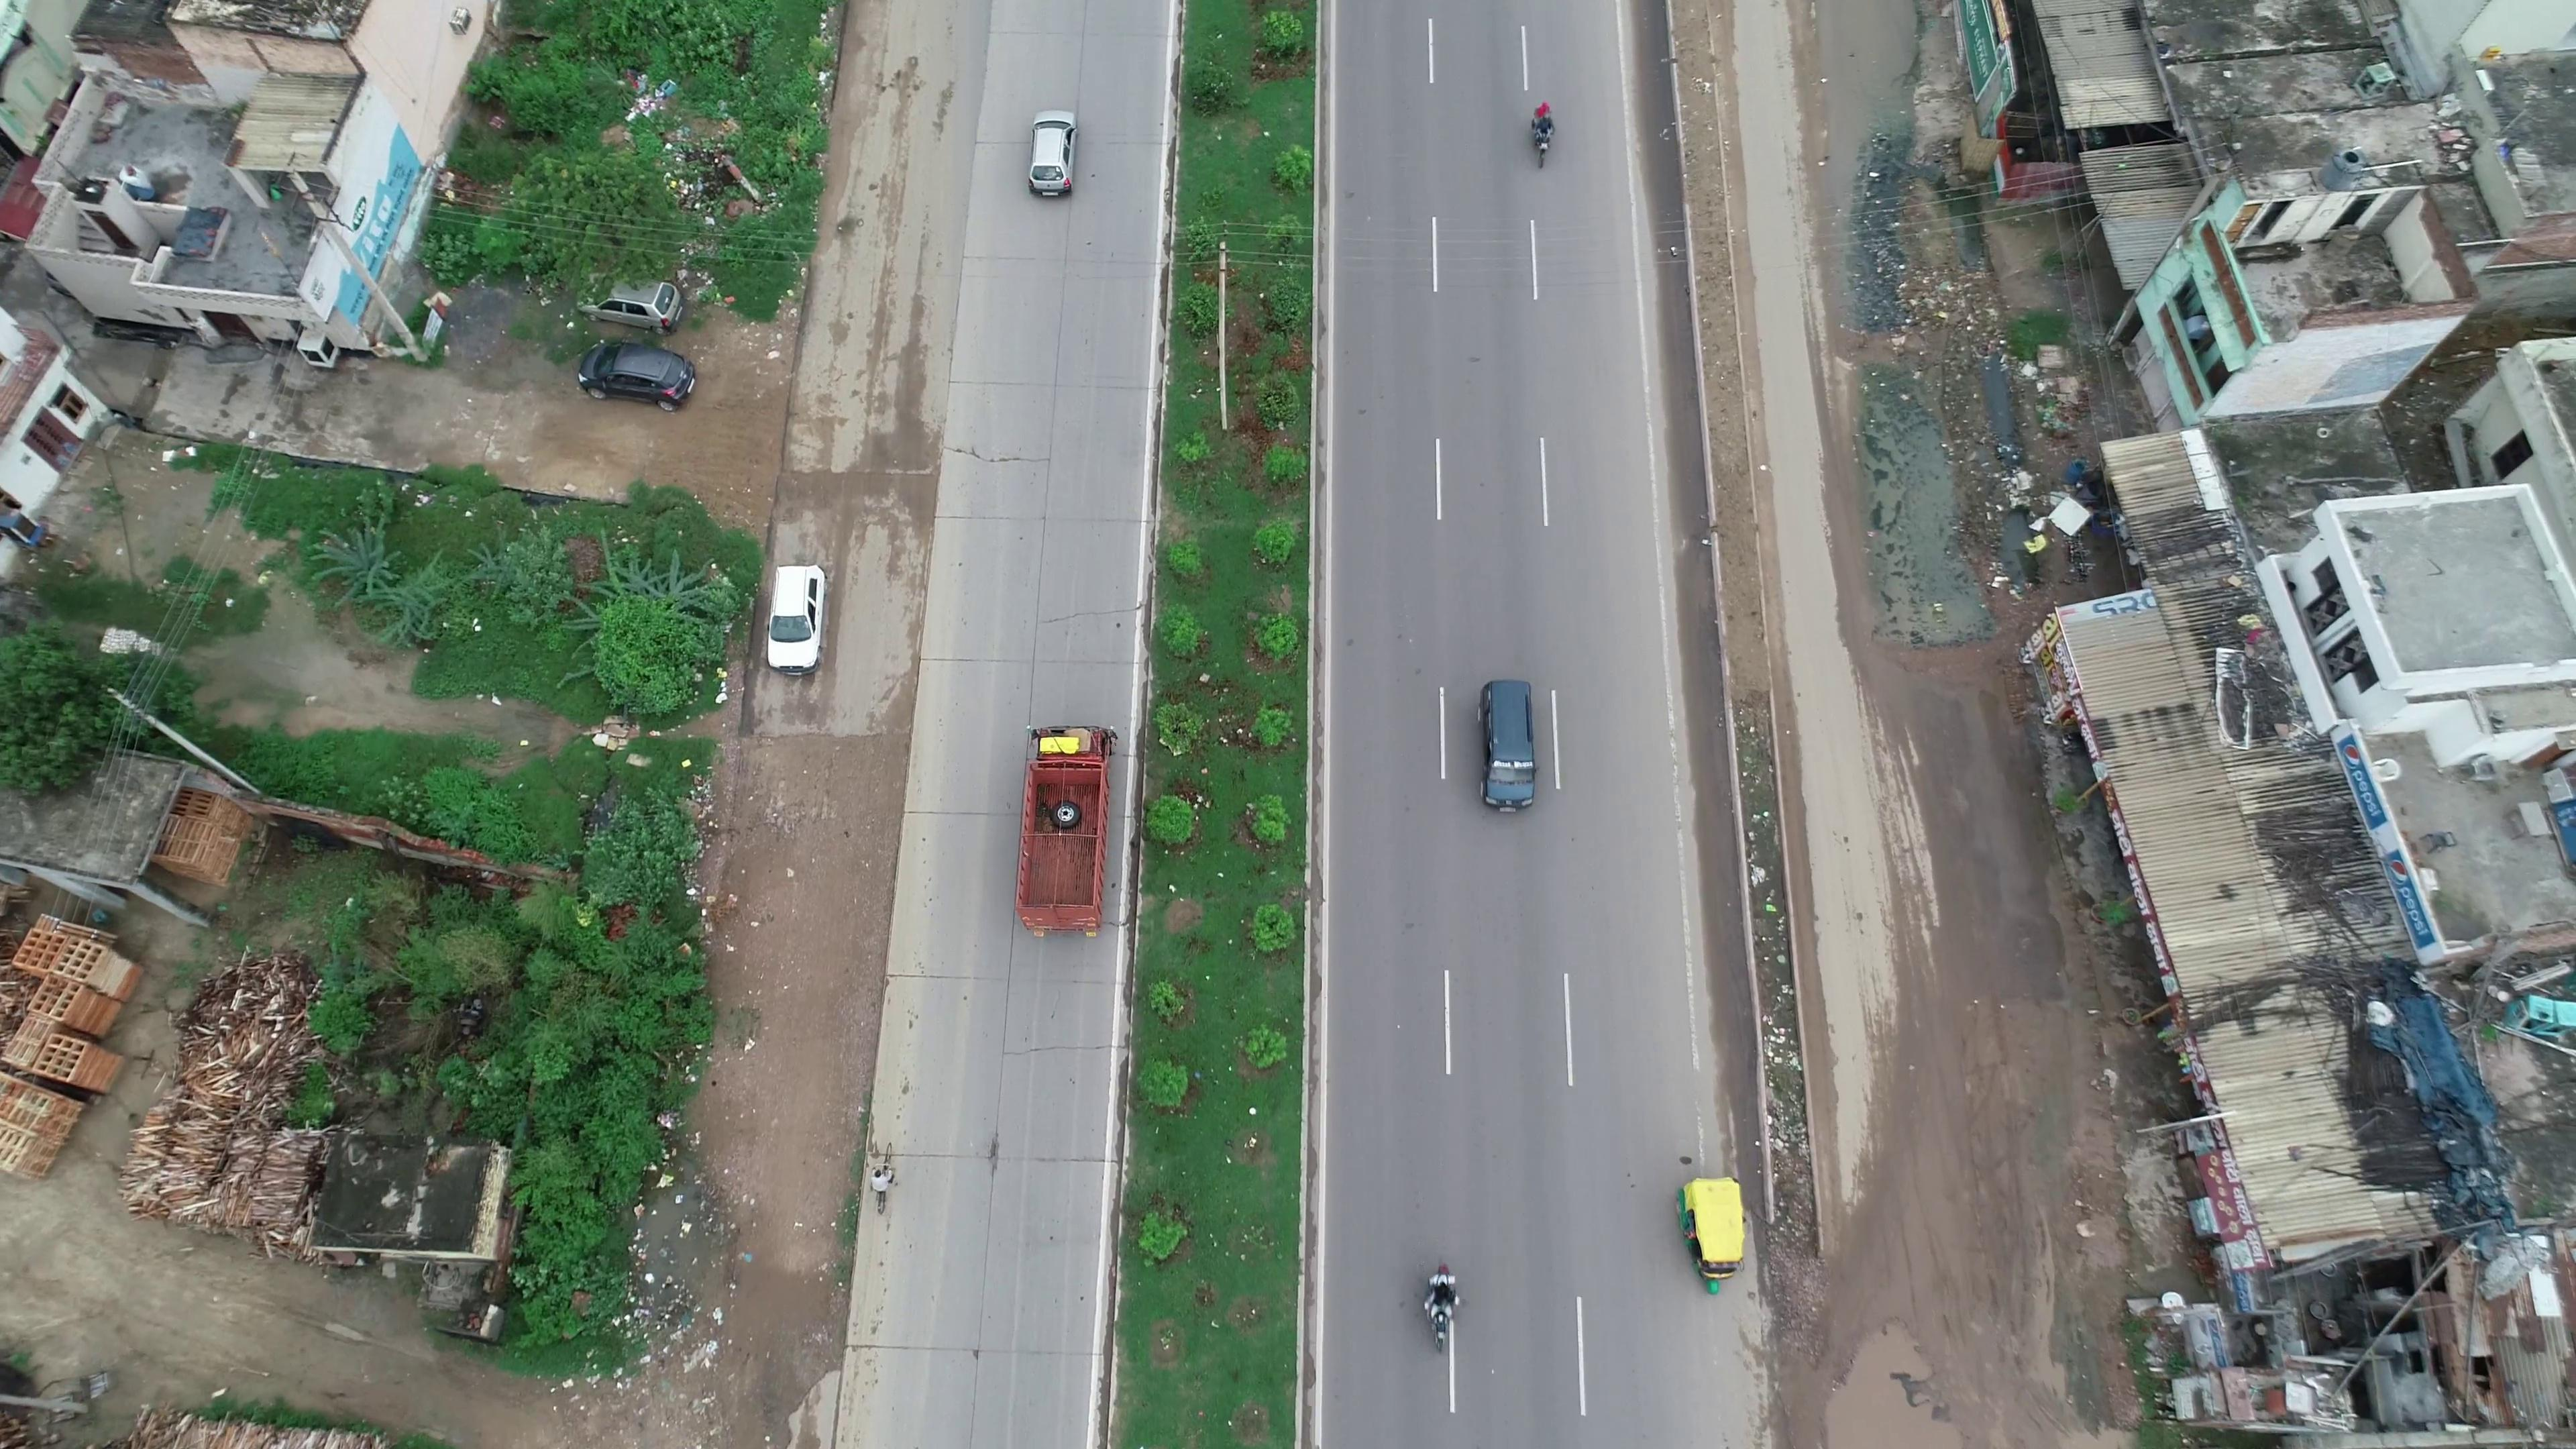Muddy_road: (1874, 1092, 2035, 1447)
